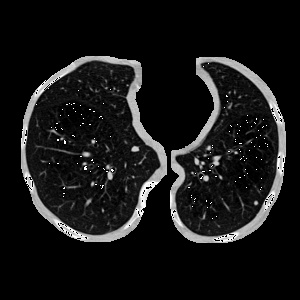PN: (254, 201, 258, 205)
